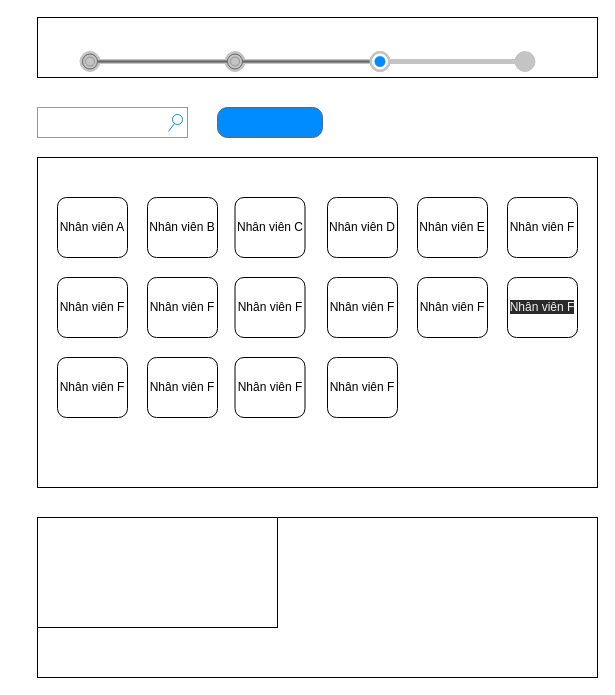
This 615x695 diagram has some shape labels left out. The shapes that lost their labels are listed below. From the top down, each one's centre as x and y in pixels, then its label:
point 307,47: Home Chi tiết nhân viên Phòng ban Bảng Lương
point 112,122: Search
point 269,122: Tìm kiếm
point 157,572: ABOUT US Address: Phone: Fax: Email:
